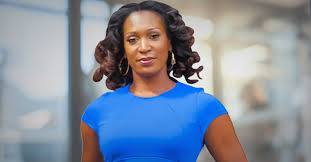black_female: (89, 1, 214, 104)
